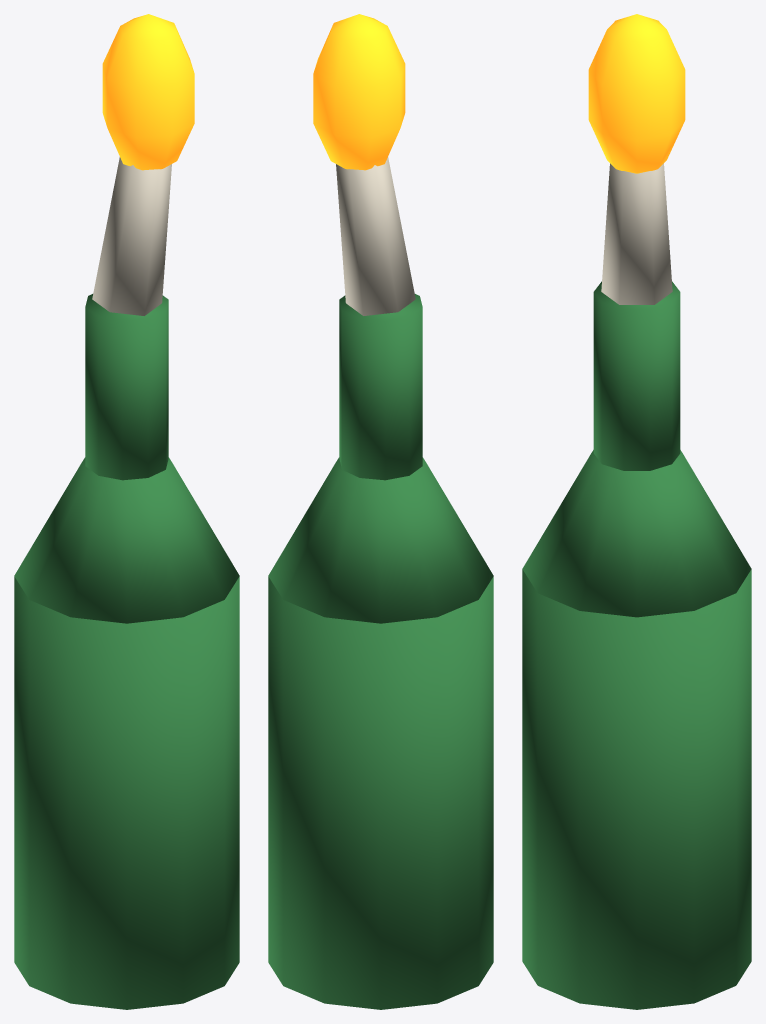
File: weapon_molotov.glb
3 views of the same model, side by side, from view 1: azimuth 30°, elevation 25°; view 2: azimuth 150°, elevation 25°; view 3: azimuth 270°, elevation 25° (orthographic).
Parts seen in each view (by area): view 1: pickup_molotov; view 2: pickup_molotov; view 3: pickup_molotov.
Boxes of the visible parts, x1,y1,x2,y2 form: pickup_molotov: (14,14,239,1009); pickup_molotov: (268,14,493,1009); pickup_molotov: (522,14,751,1009).
Size of the model in its own units: 0.09 by 0.415 by 0.09.
